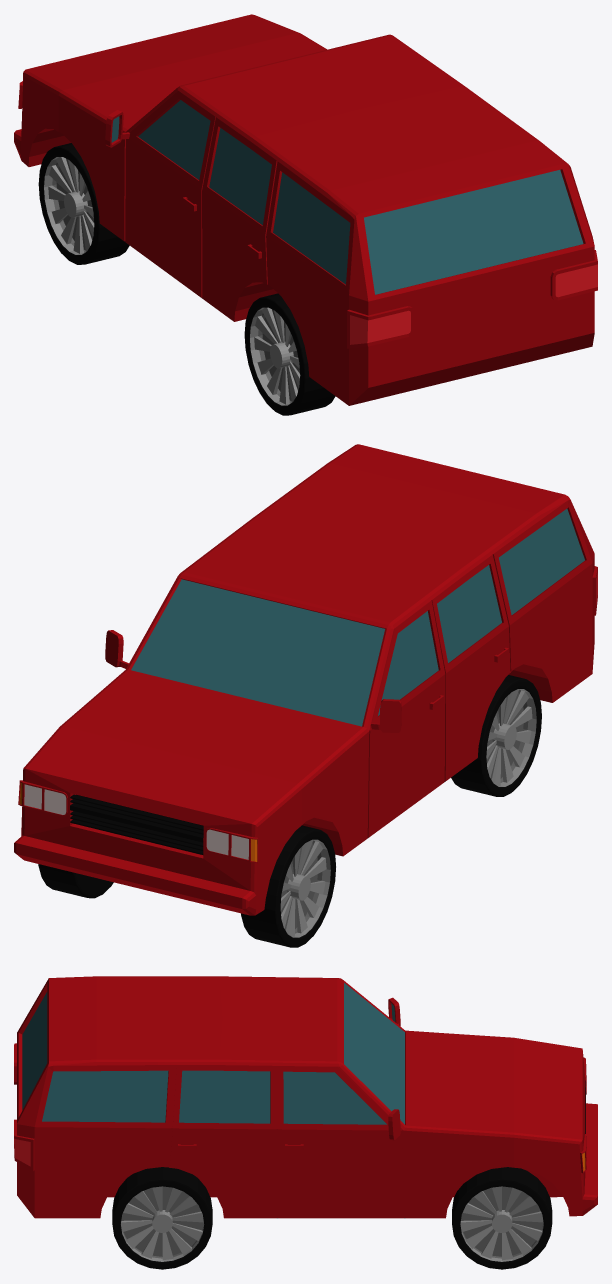
The model's file is AriFixedFinally.fbx.
3 renders of one model, top to bottom at view 1: azimuth 30°, elevation 25°; view 2: azimuth 150°, elevation 25°; view 3: azimuth 270°, elevation 25°, orthographic. The views are drawn at different scales.
Visible parts, largest first — view 1: Car, Wheel Back Left, Wheel Front Left; view 2: Car, Wheel Front Left, Wheel Back Left, Wheel Front Right; view 3: Car, Wheel Back Right, Wheel Front Right.
Boxes of the visible parts, bbox=[...] form: Car: bbox=[14, 14, 597, 405]; Wheel Back Left: bbox=[244, 293, 335, 415]; Wheel Front Left: bbox=[38, 143, 129, 264]; Car: bbox=[14, 444, 597, 915]; Wheel Front Left: bbox=[241, 825, 335, 947]; Wheel Back Left: bbox=[451, 675, 541, 796]; Wheel Front Right: bbox=[38, 864, 113, 898]; Car: bbox=[14, 976, 597, 1218]; Wheel Back Right: bbox=[112, 1167, 212, 1269]; Wheel Front Right: bbox=[452, 1167, 552, 1269].
Bounding box in the file's own units: 2.03 × 1.61 × 4.19.
